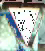Give way: (4, 1, 44, 50)
